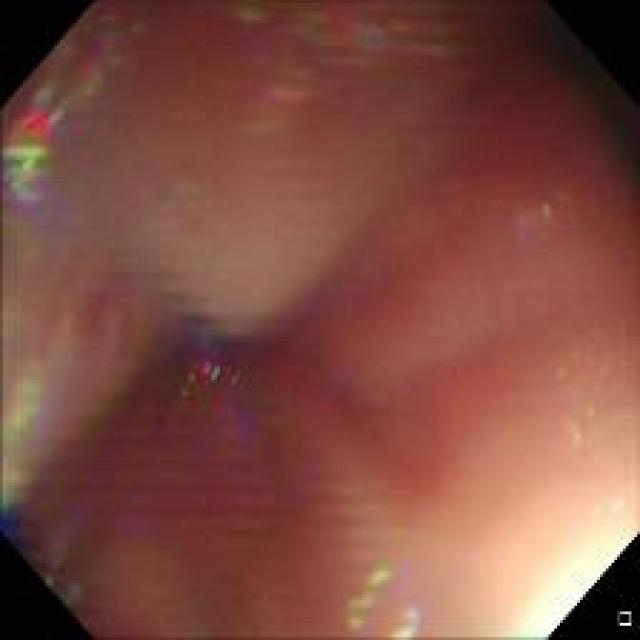color misalignment: (164, 318, 334, 459), (250, 2, 450, 119), (14, 38, 135, 204), (6, 341, 60, 541), (505, 170, 616, 251), (555, 324, 618, 455), (346, 560, 432, 634), (36, 541, 88, 611)
saturation: (522, 528, 630, 631)
